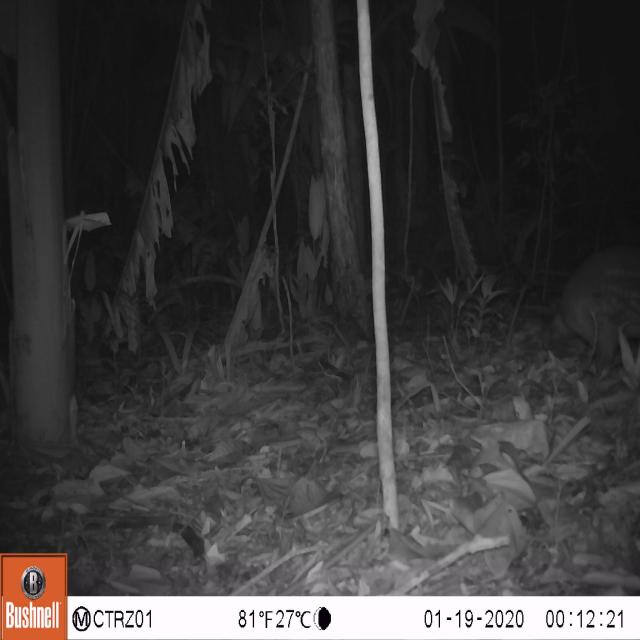Spotted Paca: (541, 232, 640, 364)
